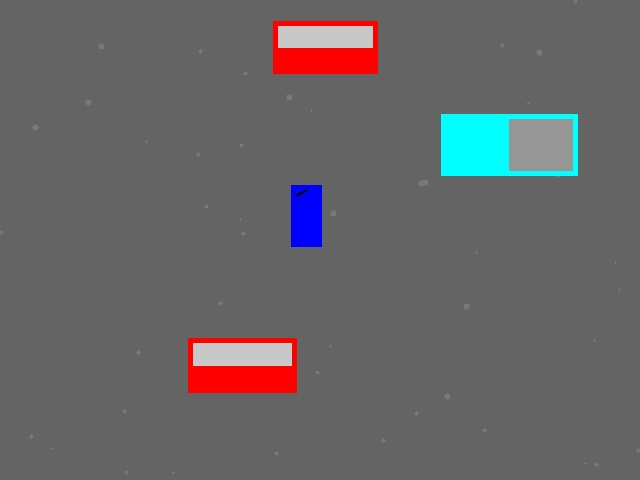car: (188, 338, 296, 392), (273, 21, 377, 73)
motorcycle: (291, 185, 321, 246)
truck: (441, 114, 577, 175)
